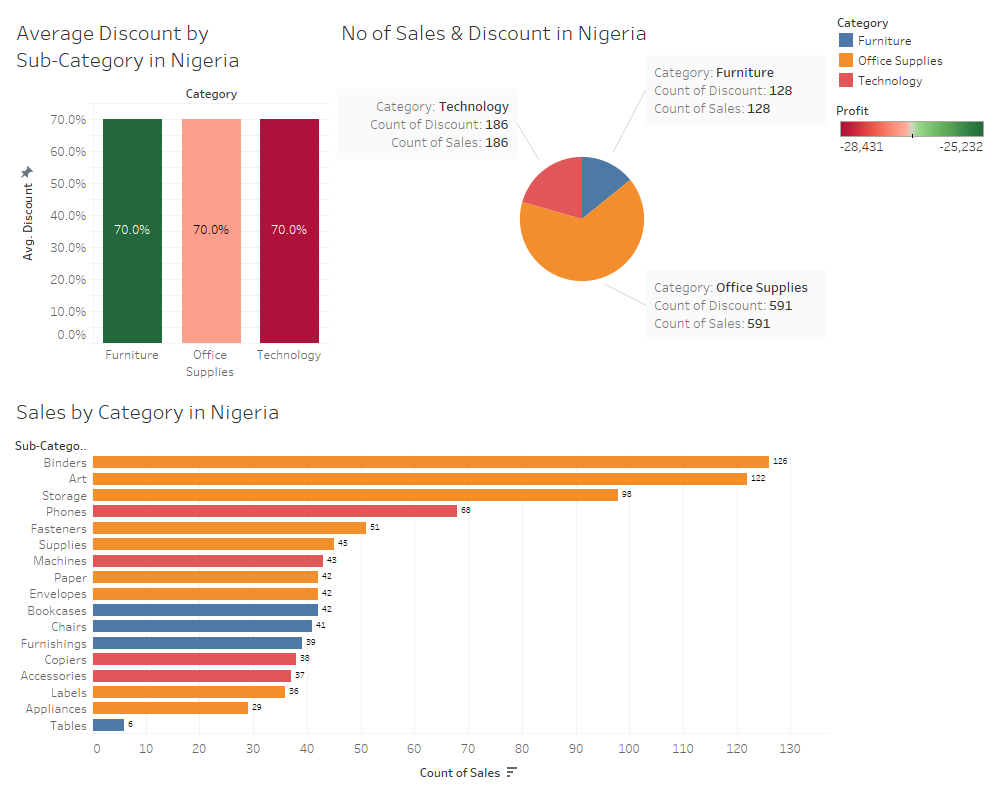

This screenshot's page, from the dashboard's own definition file:
{"tool":"tableau","page":{"name":"Sales & Discounts in Nigeria","canvas":[1000,800],"ordinal":3},"visuals":[{"type":"worksheet","title":"Average Discount by Sub-Category in Nigeria","mark":"Automatic","rows":["Discount"],"cols":["Category"],"box":[8,8,325,379]},{"type":"worksheet","title":"No of Sales & Discount in Nigeria","mark":"Pie","box":[333,8,499,379]},{"type":"legend","title":"No of Sales & Discount in Nigeria","param":"[federated.034txd11y80kzv1bq5ebt0nzog7h].[none:Category:nk]","box":[832,8,160,86]},{"type":"legend","title":"Average Discount by Sub-Category in Nigeria","param":"[federated.034txd11y80kzv1bq5ebt0nzog7h].[sum:Profit:qk]","box":[832,94,160,65]},{"type":"worksheet","title":"Sales by Category in Nigeria","mark":"Automatic","rows":["Sub-Category"],"cols":["Sales"],"box":[8,387,824,405]}]}

Visuals, with their boxes in screenshot pixels (x1, y1, x2, y2), scaled from the page's 1000x800 canvas onto the 1000x800 screenshot:
"Average Discount by Sub-Category in Nigeria" worksheet: {"x1": 8, "y1": 8, "x2": 333, "y2": 387}
"No of Sales & Discount in Nigeria" worksheet (Pie marks): {"x1": 333, "y1": 8, "x2": 832, "y2": 387}
"No of Sales & Discount in Nigeria" legend: {"x1": 832, "y1": 8, "x2": 992, "y2": 94}
"Average Discount by Sub-Category in Nigeria" legend: {"x1": 832, "y1": 94, "x2": 992, "y2": 159}
"Sales by Category in Nigeria" worksheet: {"x1": 8, "y1": 387, "x2": 832, "y2": 792}
